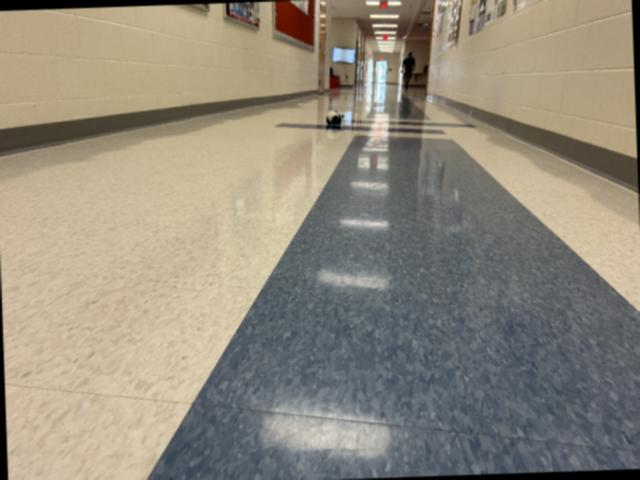panda_plushie: (327, 110, 344, 125)
